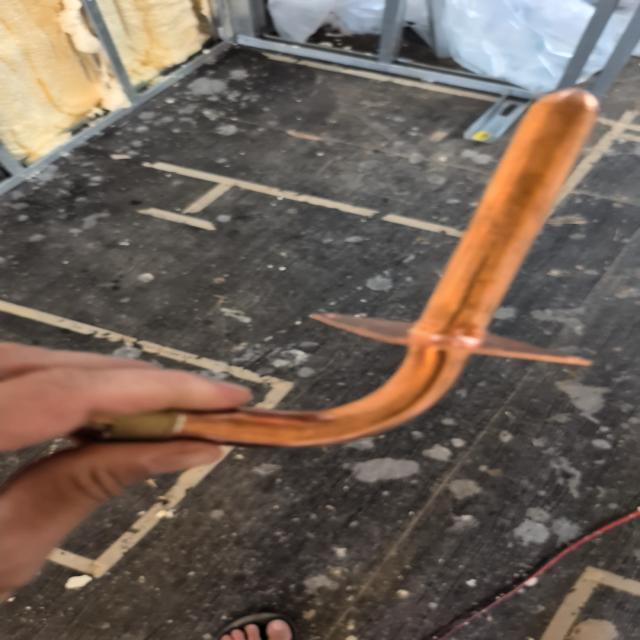wall_flange: (83, 41, 597, 458)
